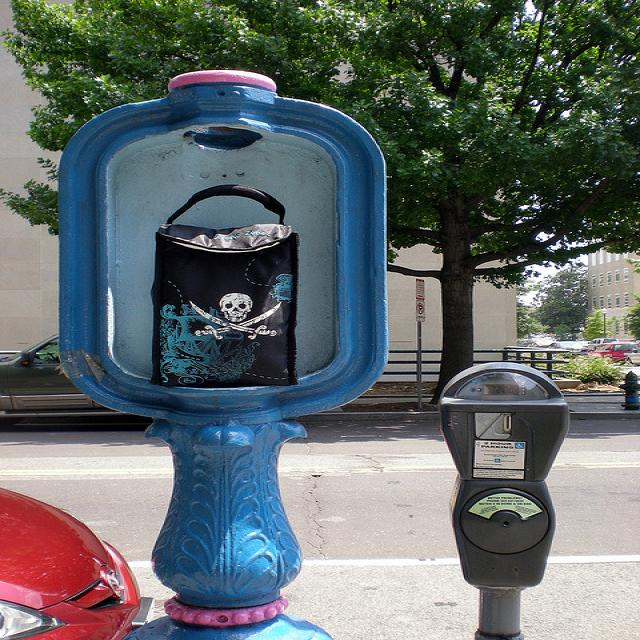Vehicle: (0, 487, 156, 639), (0, 332, 136, 428), (586, 343, 635, 360), (585, 338, 617, 348), (553, 342, 585, 351), (624, 348, 640, 363), (533, 338, 557, 347)
